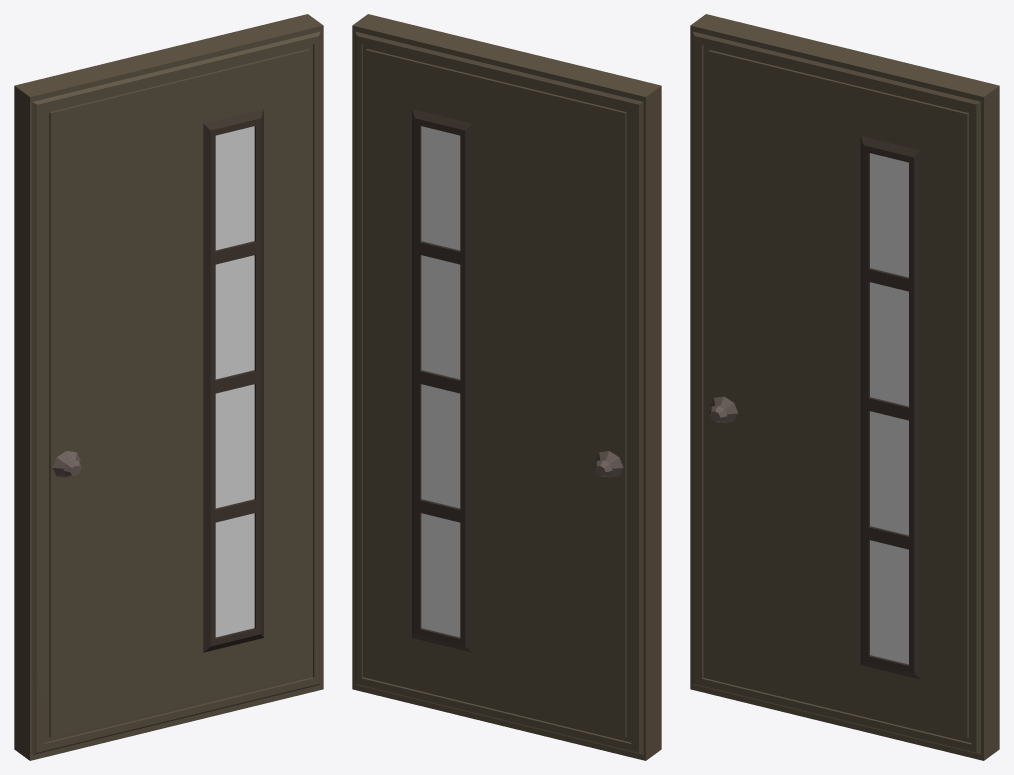
Rendered from doorB.fbx.
3 views of the same model, side by side, from view 1: azimuth 30°, elevation 25°; view 2: azimuth 150°, elevation 25°; view 3: azimuth 330°, elevation 25° (orthographic).
Parts seen in each view (by area): view 1: Door_6; view 2: Door_6; view 3: Door_6.
Part boxes in pixels (<box>): Door_6: <box>14,14,323,760</box>; Door_6: <box>352,14,661,760</box>; Door_6: <box>690,14,999,760</box>.
Bounding box in the file's own units: 153 × 331 × 33.19.
